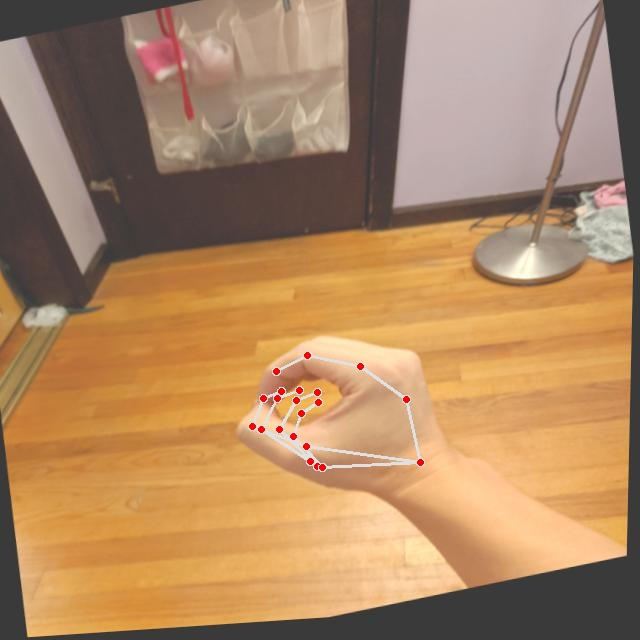O: (217, 313, 462, 527)
